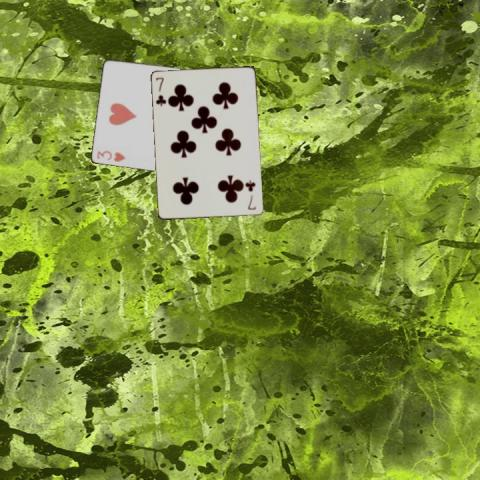3h: (94, 147, 127, 163)
7c: (153, 75, 168, 107), (244, 178, 257, 211)
